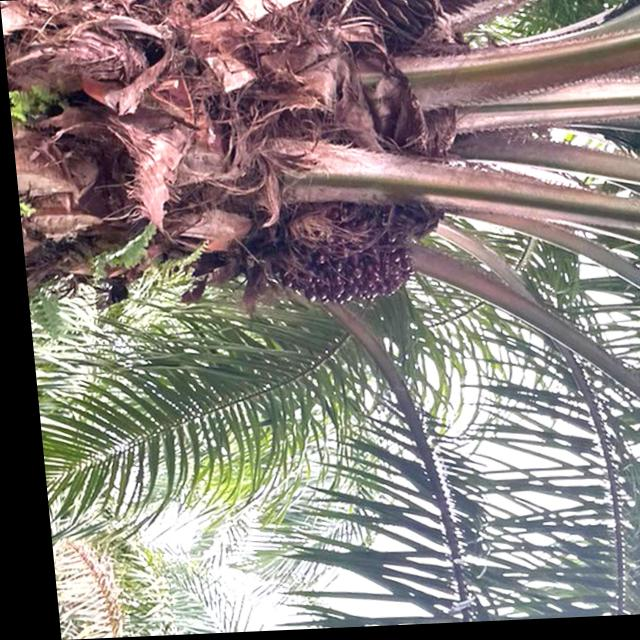ripe: (261, 202, 426, 325)
